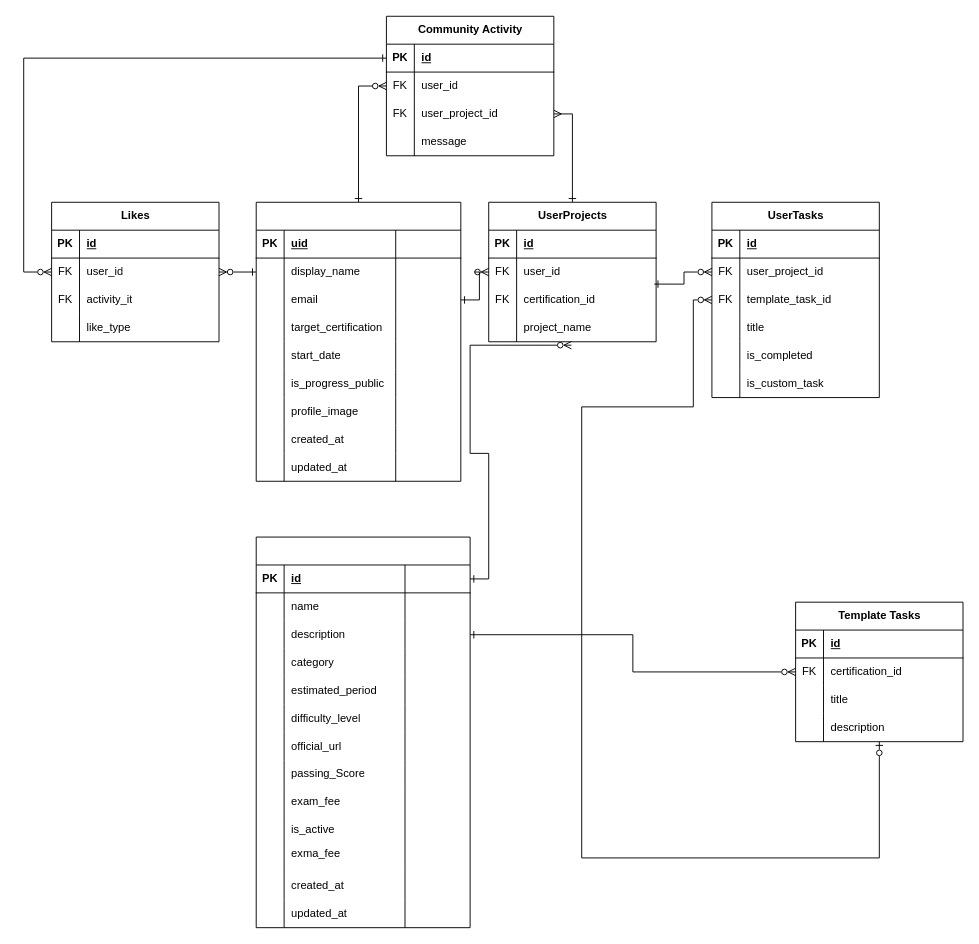
Some shapes in this 979 by 944 pixel diagram are drawn without their labels. The shapes that lost their labels are listed below. From the top down, each one's box as (x1, y1, x2, y2) in pixels, then its label:
(255, 201, 461, 481): Users
(255, 536, 470, 928): CertificationTemplates
